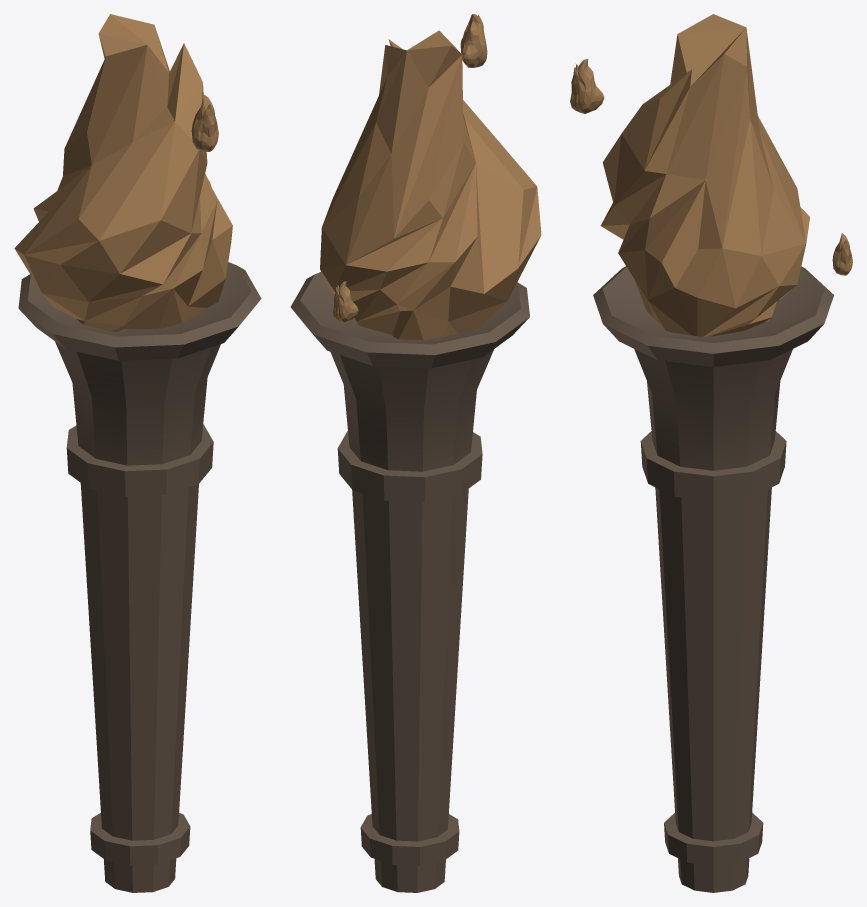
Rendered from LitTorch2.fbx.
3 views of the same model, side by side, from view 1: azimuth 30°, elevation 25°; view 2: azimuth 150°, elevation 25°; view 3: azimuth 270°, elevation 25° (orthographic).
Parts seen in each view (by area): view 1: LitTorchExtra; view 2: LitTorchExtra; view 3: LitTorchExtra.
Part boxes in pixels (x1=…): LitTorchExtra: x1=14, y1=14, x2=261, y2=892; LitTorchExtra: x1=290, y1=14, x2=541, y2=892; LitTorchExtra: x1=570, y1=14, x2=852, y2=892.
Bounding box in the file's own units: 16.14 × 60.56 × 18.38.
